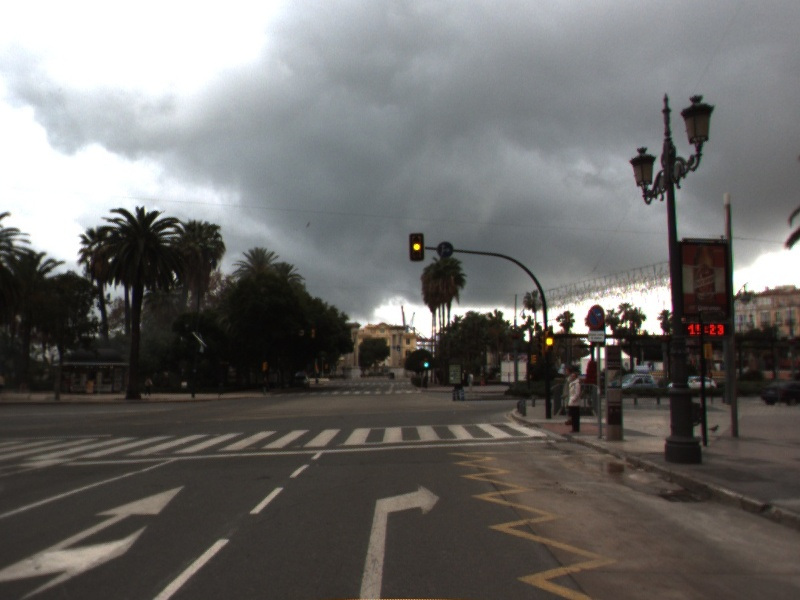RIGHT: (356, 479, 445, 600)
STRAIGHT_RIGHT: (1, 482, 190, 600)
